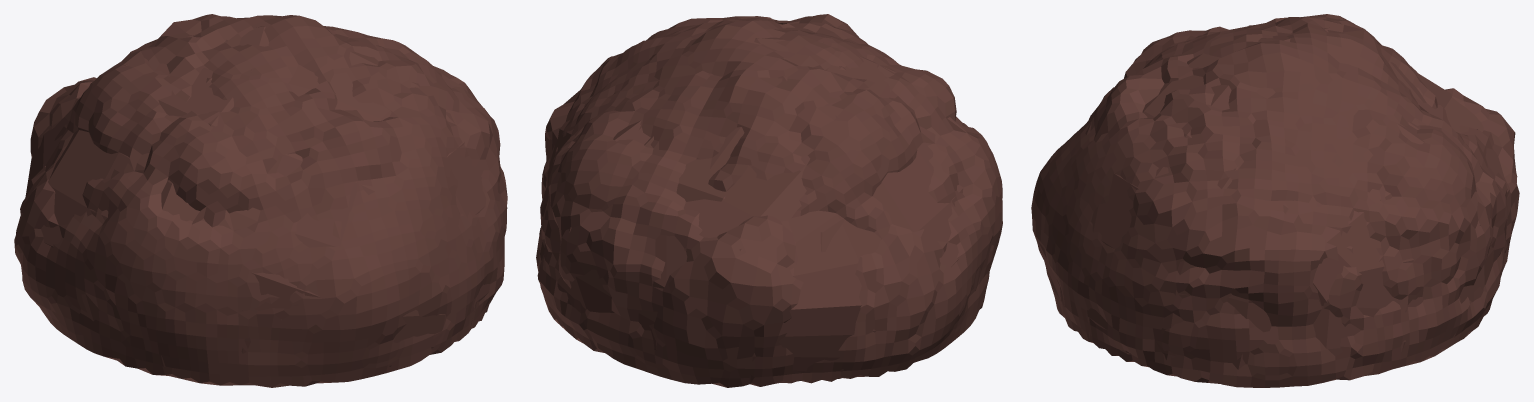
Rendered from GADS_Rock_01_lowpoly.fbx.
3 renders of one model, left to right at view 1: azimuth 30°, elevation 25°; view 2: azimuth 150°, elevation 25°; view 3: azimuth 270°, elevation 25°, orthographic. The views are drawn at different scales.
Visible parts, largest first — view 1: Sphere, Retopo_Sphere; view 2: Sphere, Retopo_Sphere, Retopo_Sphere.001; view 3: Sphere, Retopo_Sphere.
Part boxes in pixels (bbox=[...]): Sphere: bbox=[14, 14, 507, 387]; Retopo_Sphere: bbox=[25, 26, 501, 366]; Sphere: bbox=[536, 14, 1002, 387]; Retopo_Sphere: bbox=[542, 27, 981, 383]; Retopo_Sphere.001: bbox=[644, 66, 846, 252]; Sphere: bbox=[1031, 14, 1519, 387]; Retopo_Sphere: bbox=[1038, 19, 1509, 369].
Size of the model in its own units: 558 by 342 by 571.
